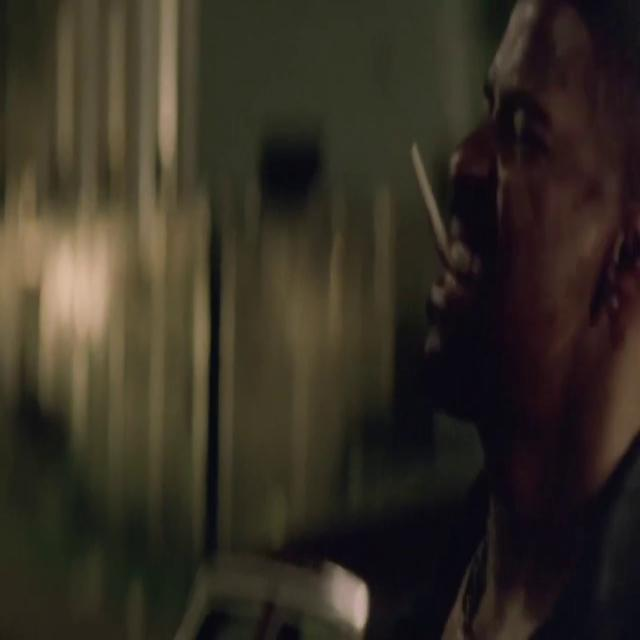Smooking: (403, 123, 452, 265)
